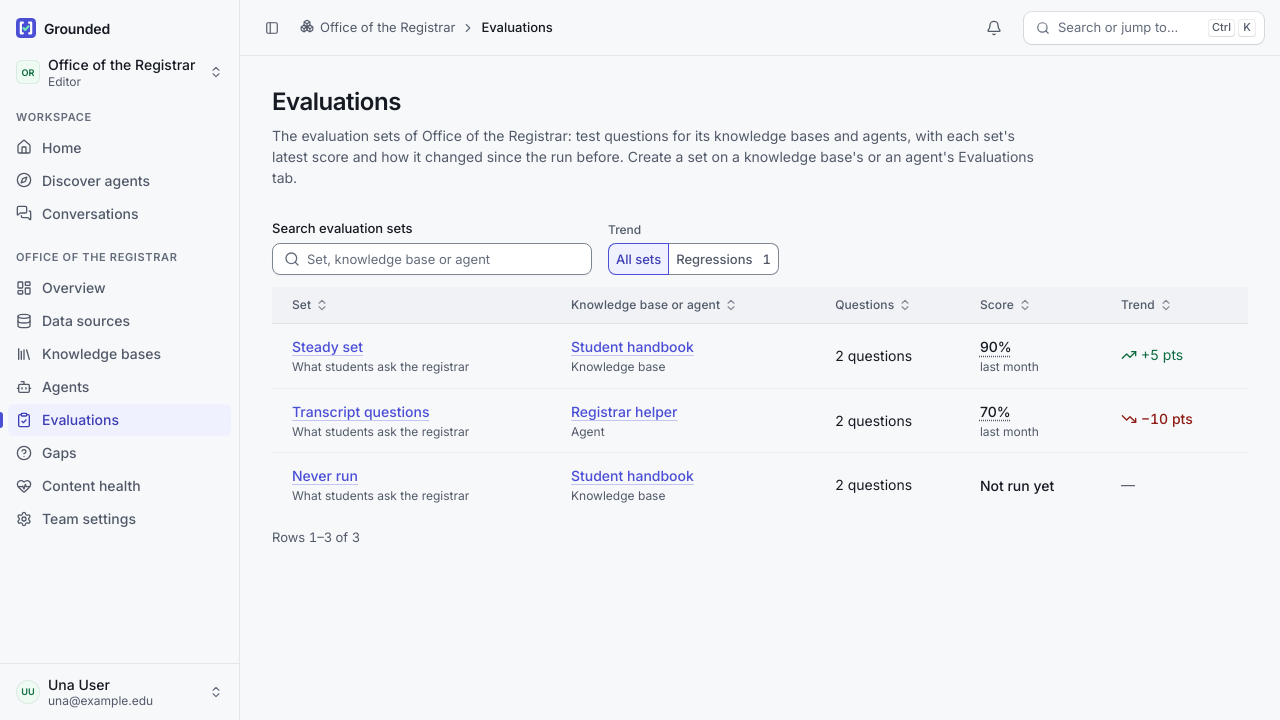
Test: the team's Evaluations page (I3) › lists every set with its target, questions, latest score and trend, and filters regressions
This screenshot has width=1280, height=720.
Expected: the heading "Evaluations" is shown, [272, 88, 401, 117]
Expected: the column headings read "Set", "Knowledge base or agent", "Questions", "Score", "Trend", in this order, [272, 287, 555, 324]; [555, 287, 819, 324]; [819, 287, 964, 324]; [964, 287, 1105, 324]; [1105, 287, 1248, 324]
Click the button "Regressions 1".
click(724, 259)  # box [668, 243, 779, 275]
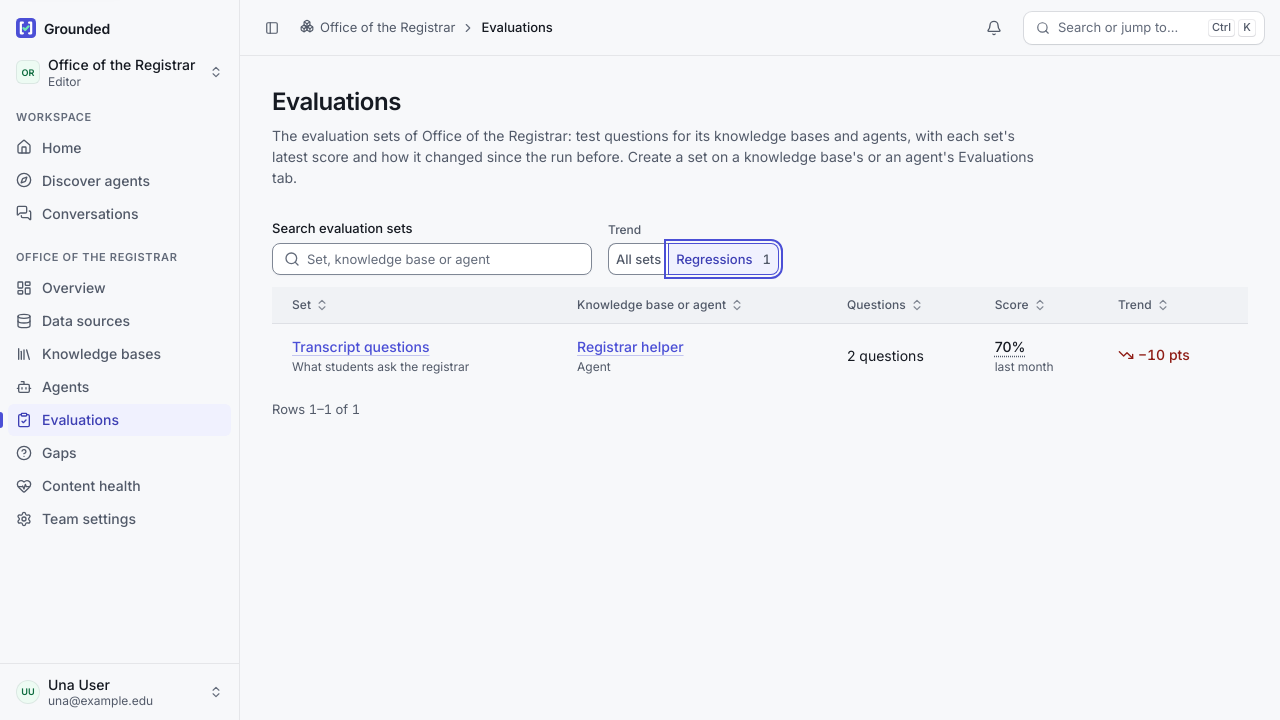
Expected: the link "Transcript questions" is shown, [292, 338, 430, 355]
Now the link "Steady set" is gone
